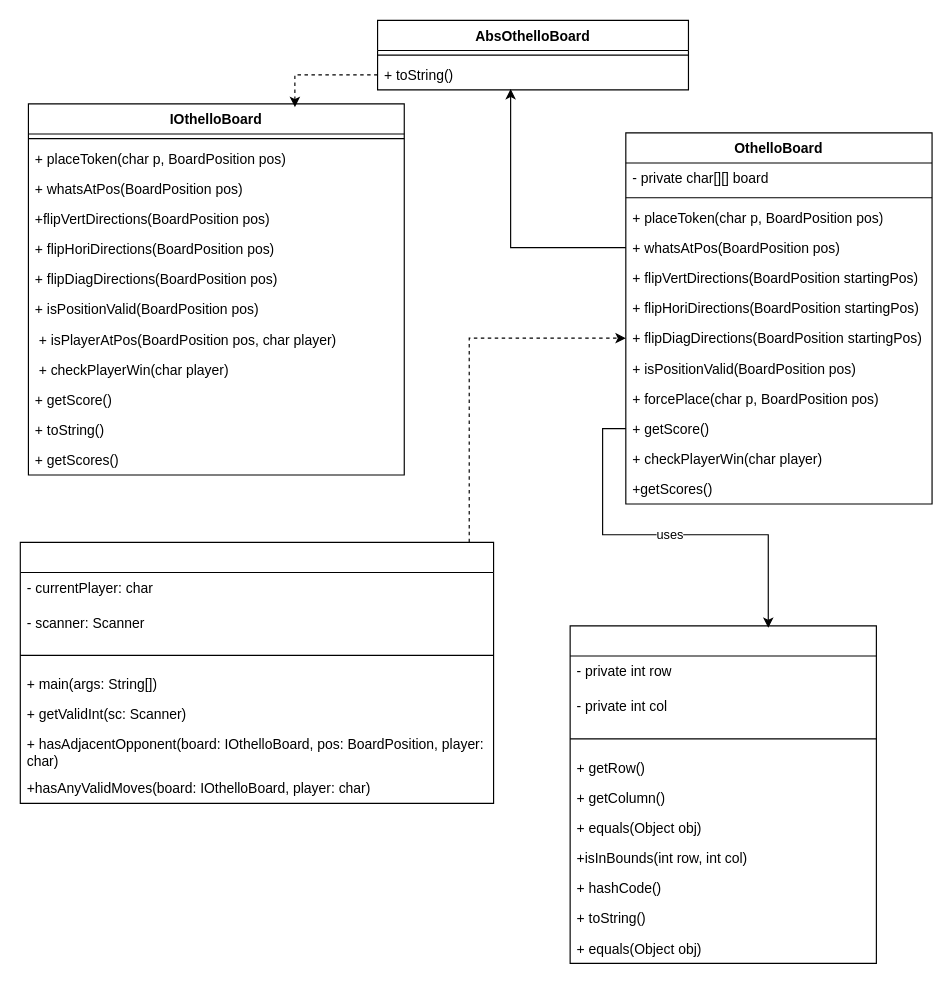
The diagram is 952 pixels wide and 987 high, and some of its shapes have lost their labels. The shapes that lost their labels are listed below. From the top down, each one's box as (x1, y1, x2, y2) in pixels, then its label:
(19, 541, 494, 803): OthelloFE
(569, 625, 876, 963): BoardPosition
